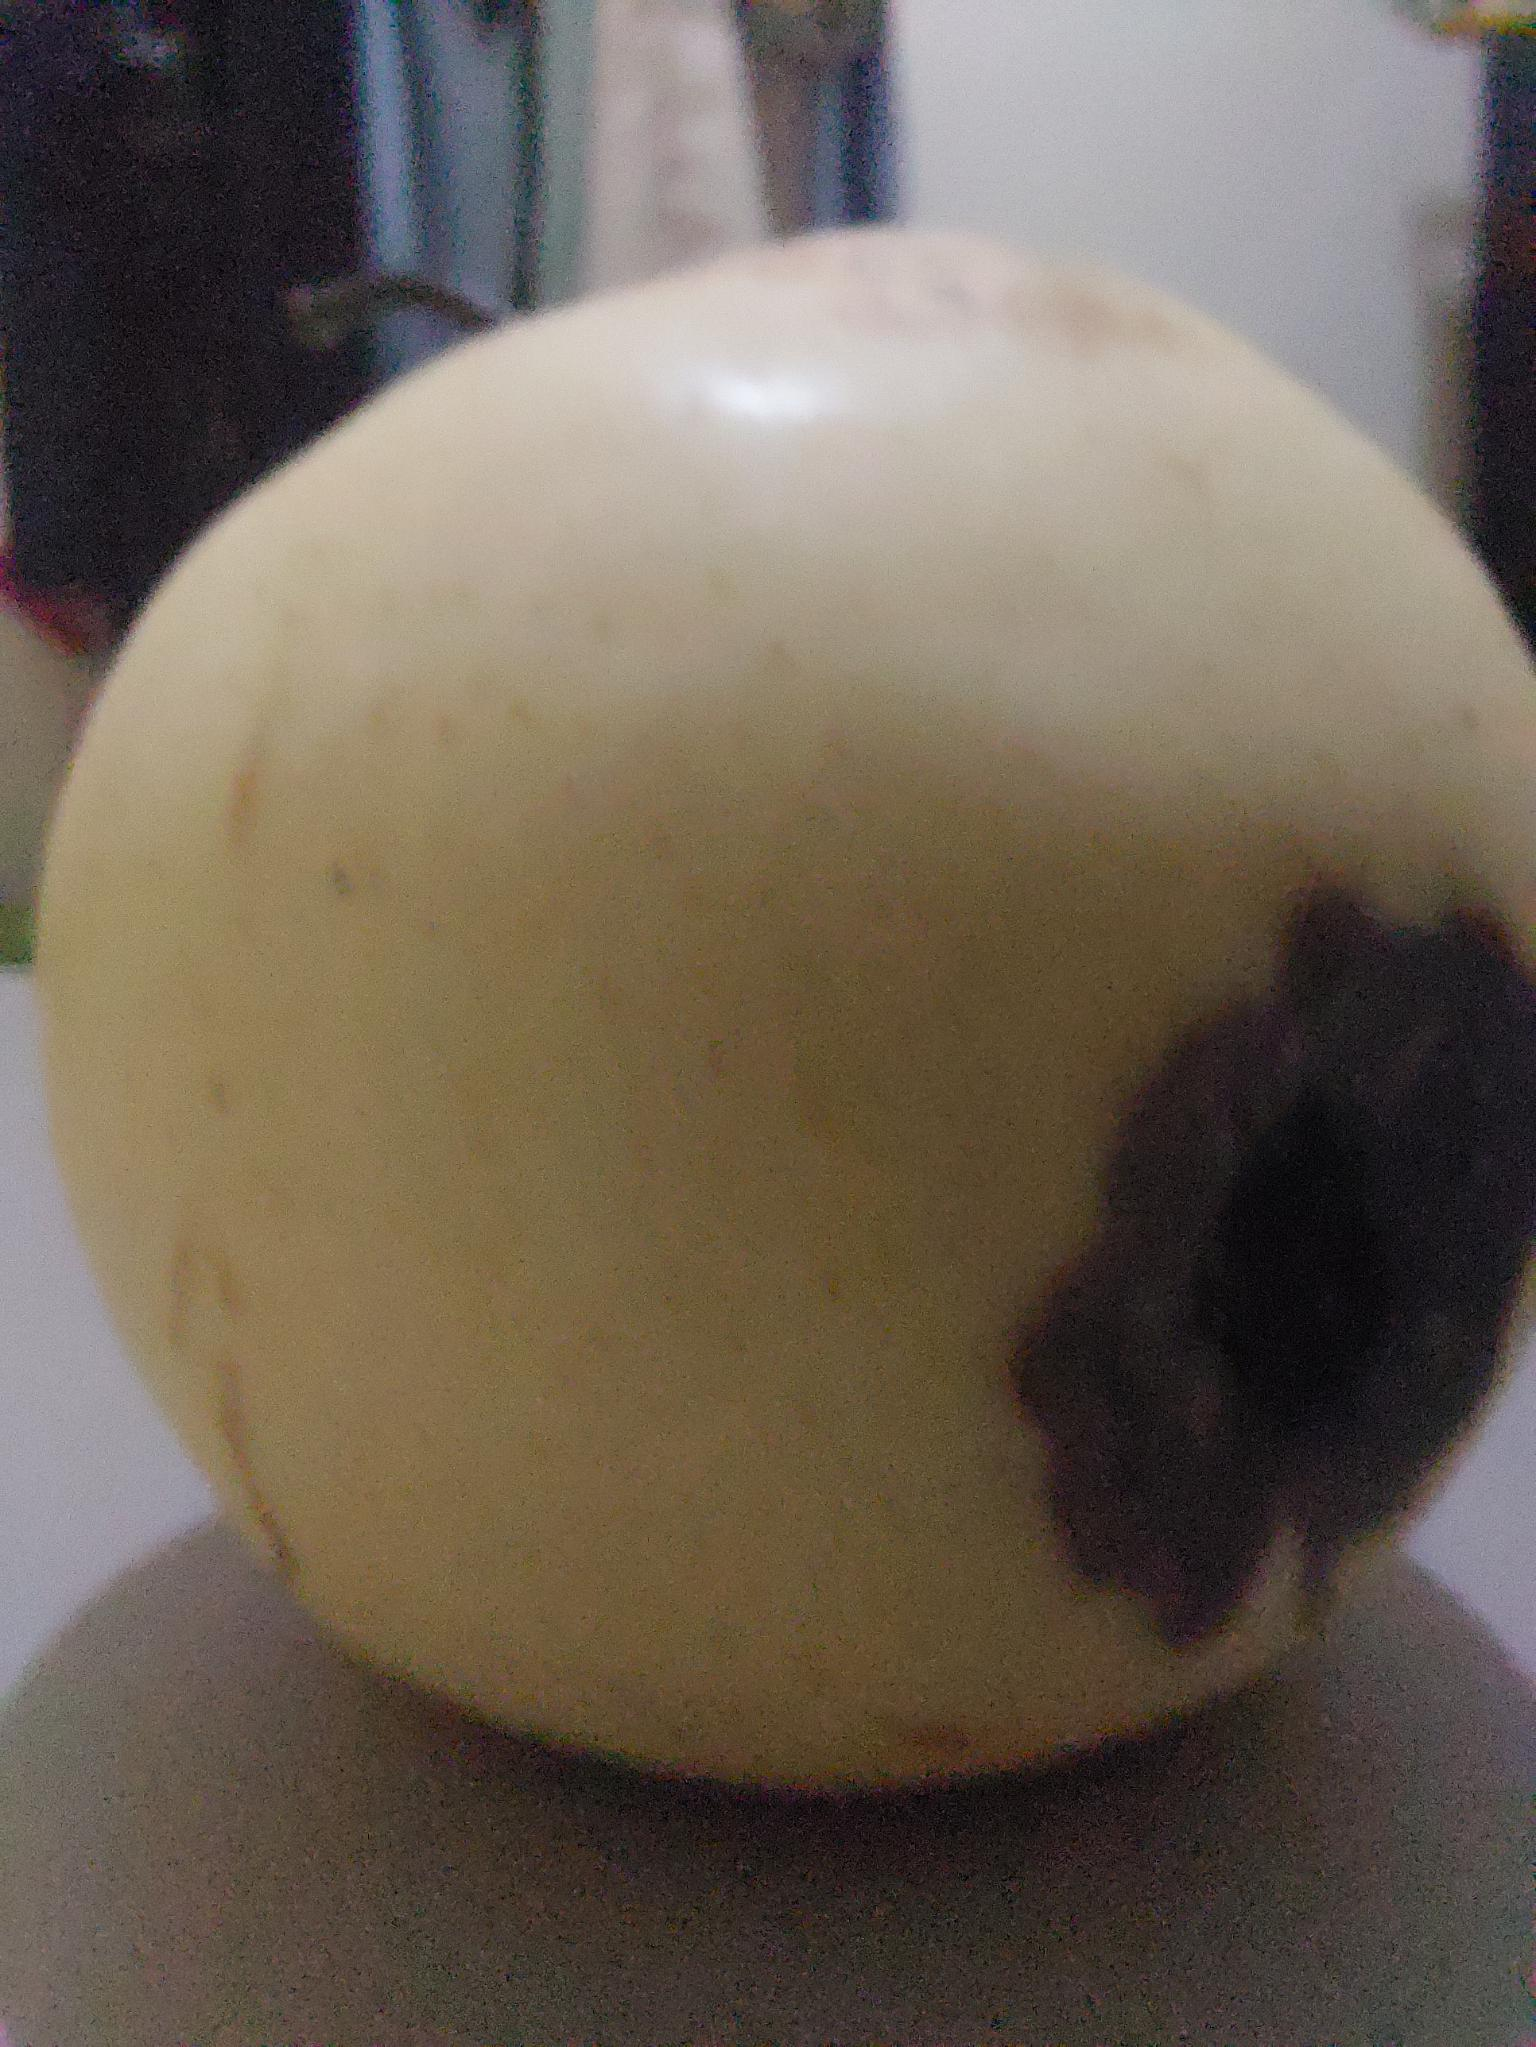Bad Pear: (3, 208, 1536, 1823)
